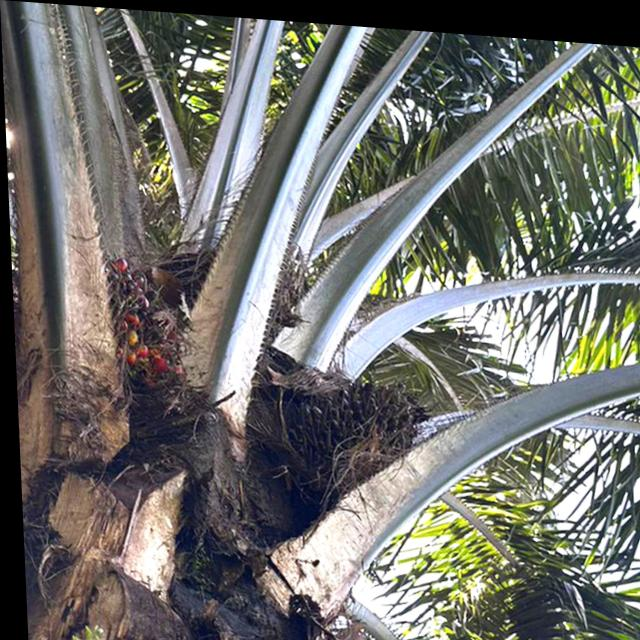almost: (247, 360, 430, 516), (85, 242, 197, 432)
